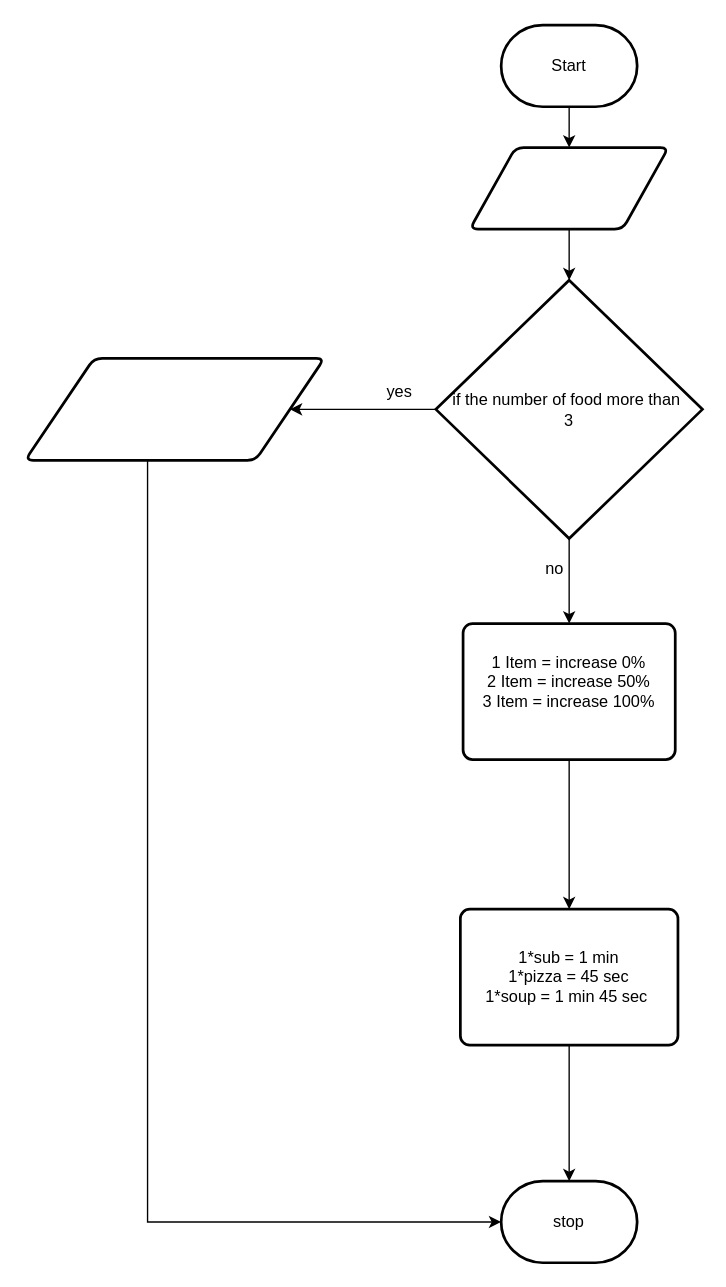
Image size: 726x1287. Some labels were removed from this diagram. Here are the shapes that lost their labels. From the top down, the centre of each, then its label:
[568,188]: get microwave food
[174,408]: console.log("the maximum quantity of food is 3 ")
